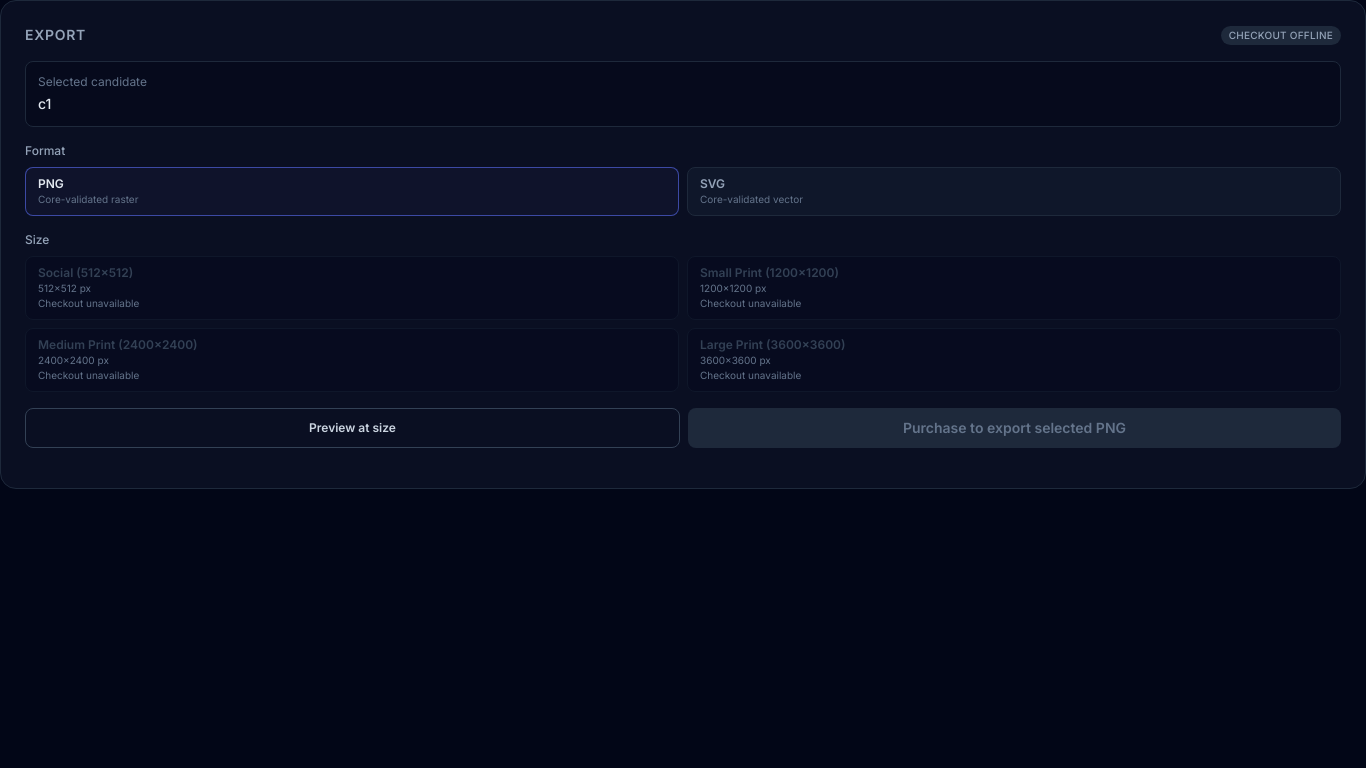
it: Accessibility — Print Preview Modal › closes the modal on Escape key press and restores focus
Click the button "Preview at size": x=352, y=428 [25, 408, 680, 448]
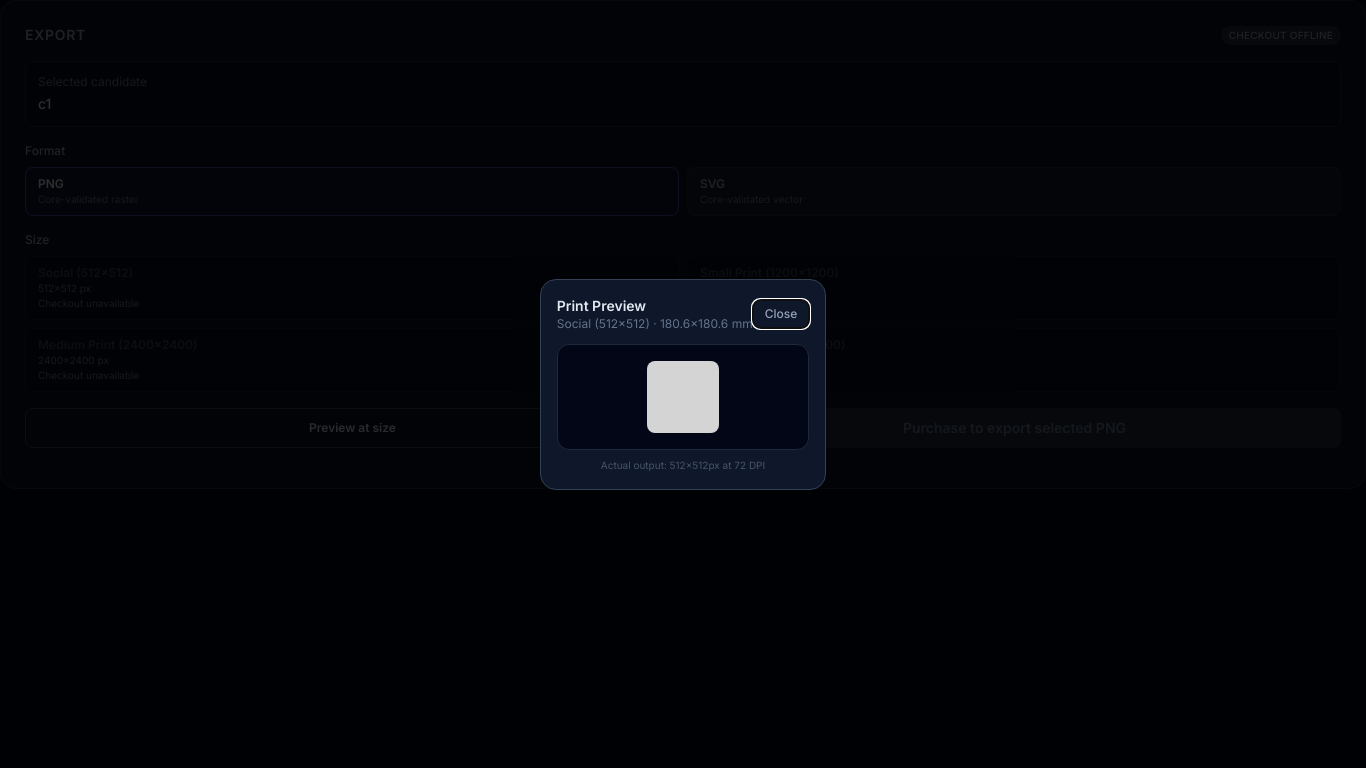
Result: the dialog is shown
Press Escape
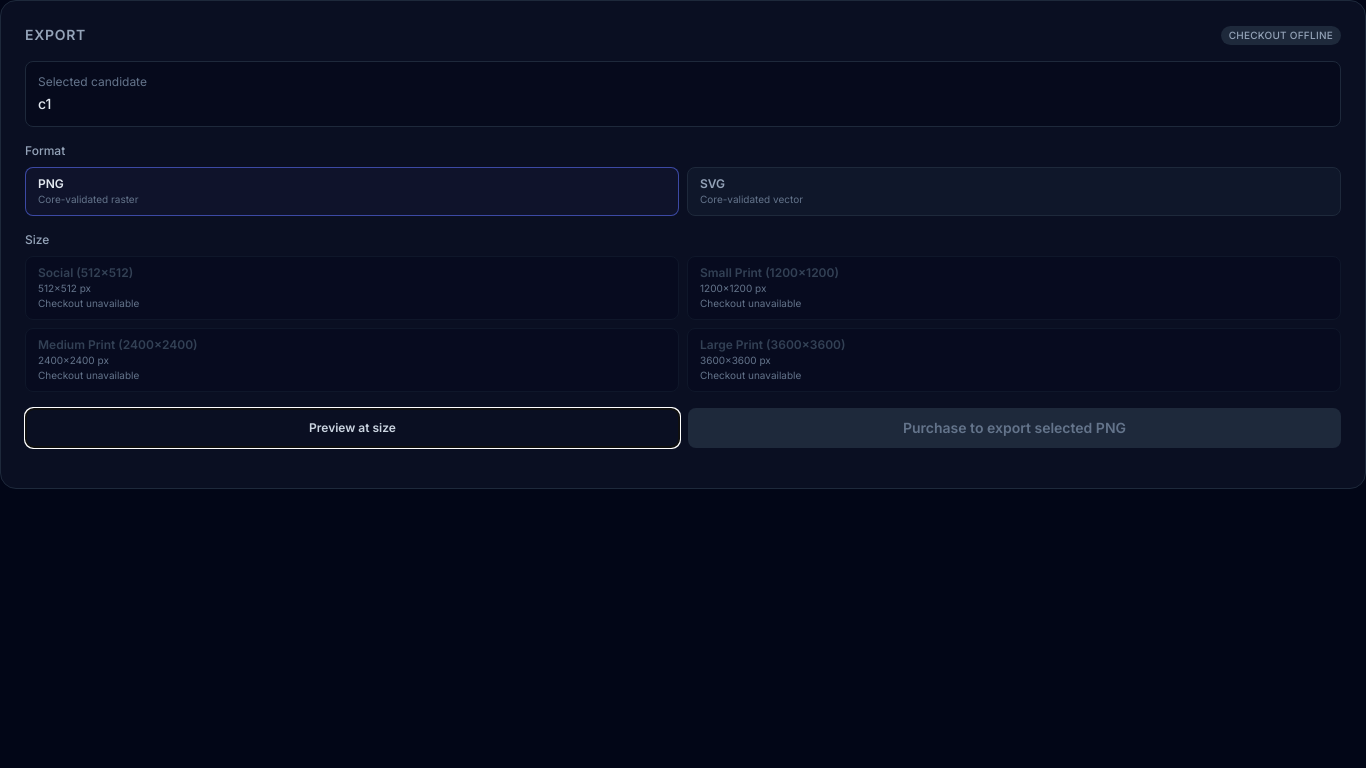
Result: the dialog is gone
